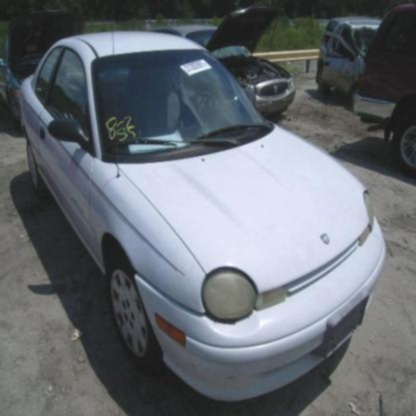Vehicle: (20, 31, 388, 403)
